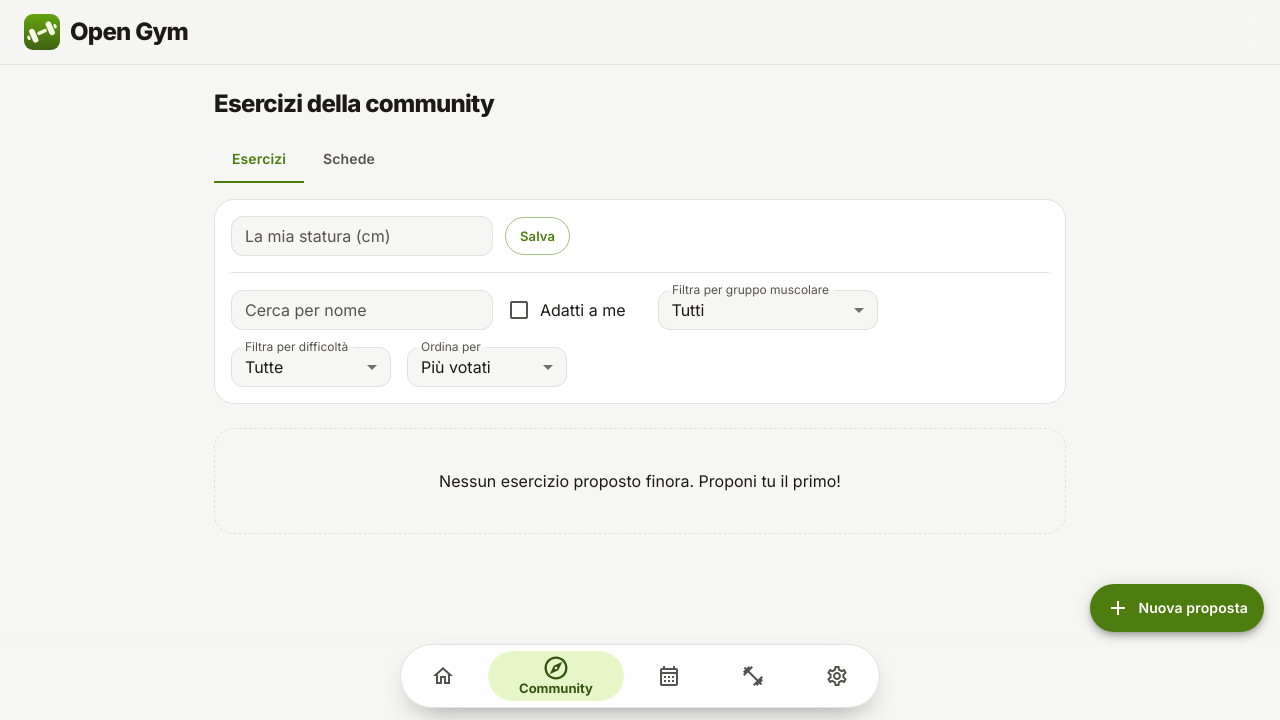
Test case: Gestione esercizi › atterra sulla lista della community; la proposta si apre dal FAB in un modale (M12)
The image size is (1280, 720).
Click the button with test id "propose-toggle": (1177, 608) [1090,584,1264,632]
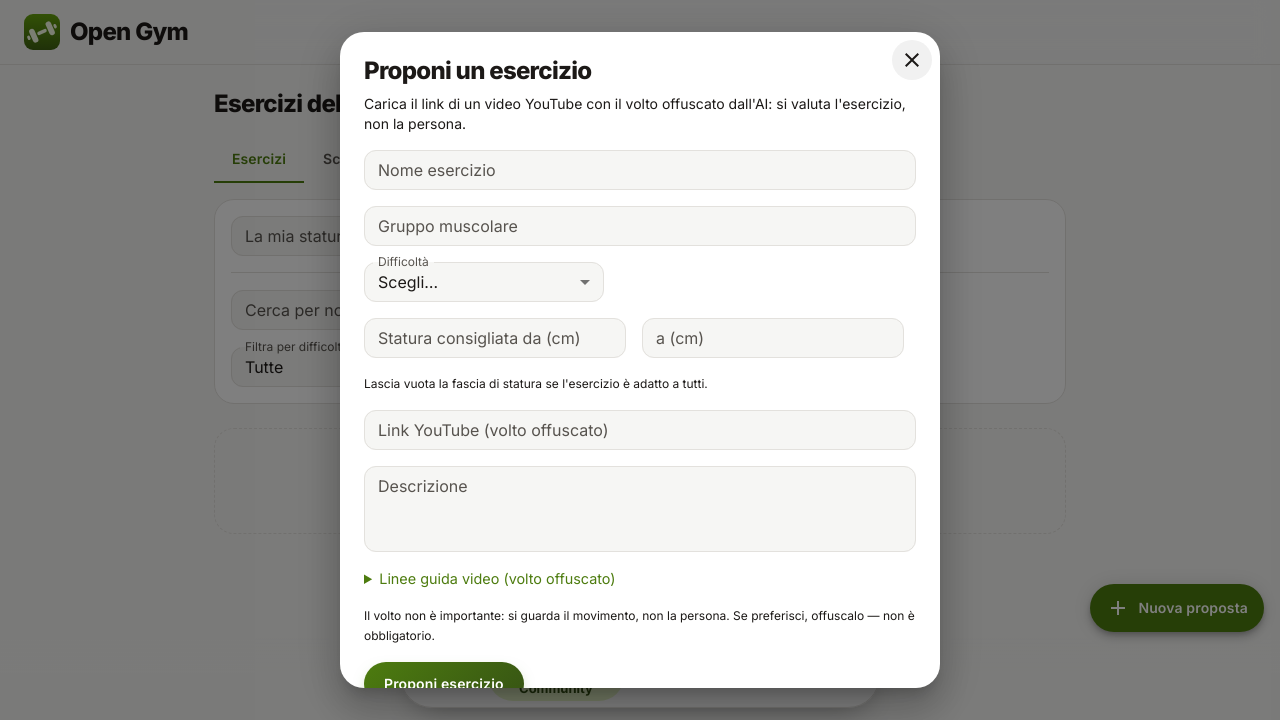
Expected: the dialog is shown, [340,32,940,688]
Expected: the field with test id "exercise-name" is shown, [364,150,916,190]
Click the button with test id "form-close": (912, 60) [892,40,932,80]
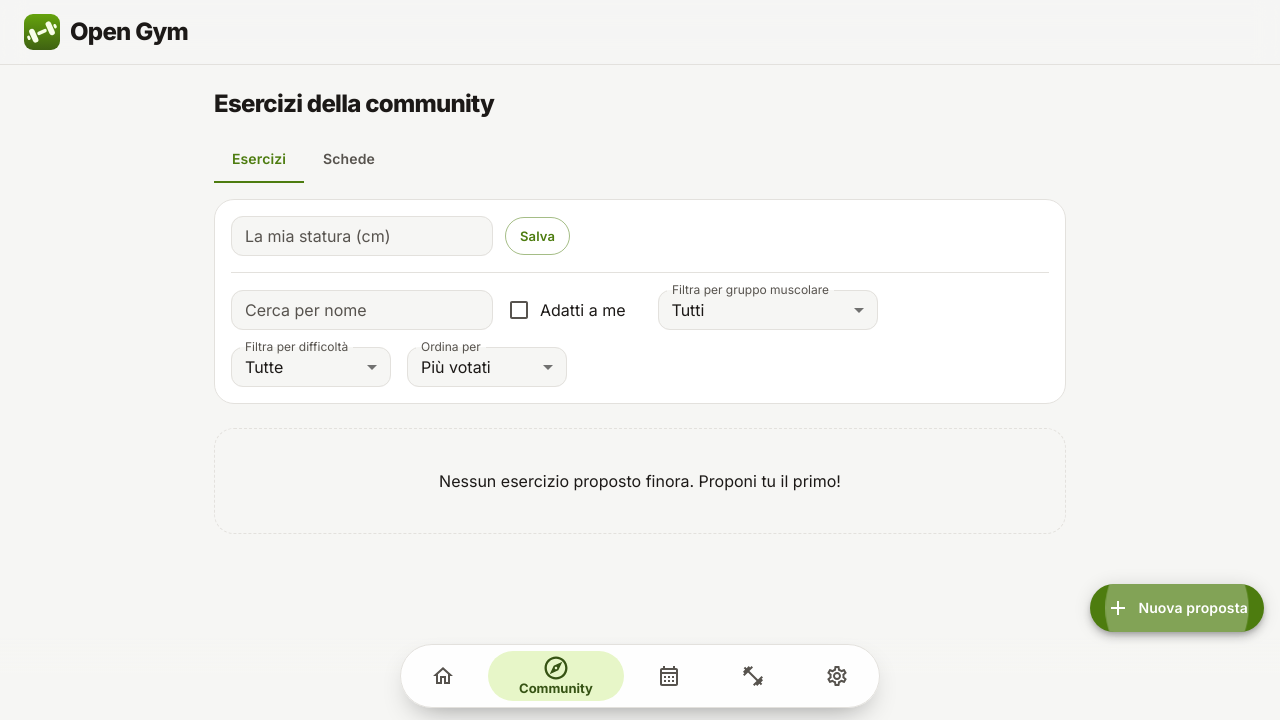
Expected: the field with test id "exercise-name" is gone
Expected: the button with test id "propose-toggle" is collapsed, [1090,584,1264,632]
